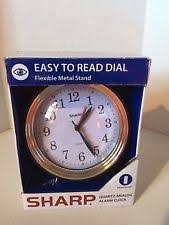alarm_clock: (18, 84, 132, 184)
